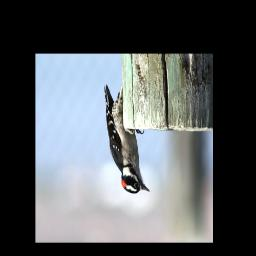Woodpecker: (103, 85, 151, 195)
